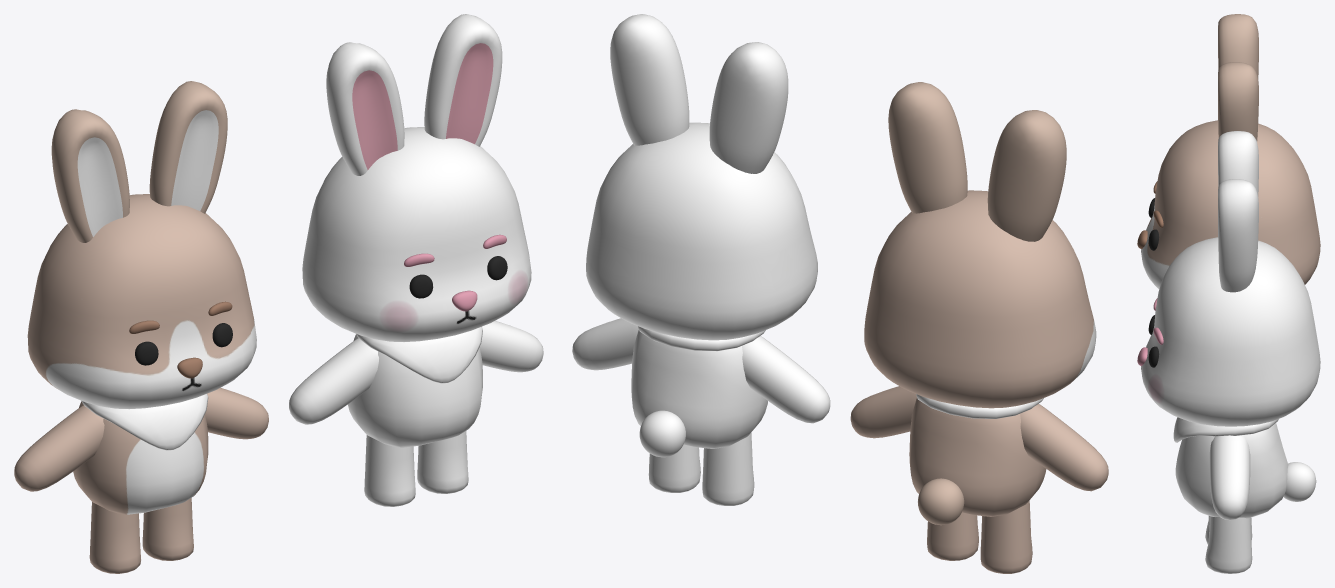
File: bunny_gltf.gltf
3 renders of one model, left to right at view 1: azimuth 30°, elevation 25°; view 2: azimuth 150°, elevation 25°; view 3: azimuth 270°, elevation 25°, orthographic. The views are drawn at different scales.
Visible parts, largest first — view 1: bunny2_head, bunny1_head, bunny2_ears, bunny1_ears, bunny1_body, bunny2_body, bunny1_arms, bunny2_arms, bunny1_legs, bunny2_legs, bunny1_scraf, bunny2_scraf (+2 smaller); view 2: bunny1_head, bunny2_head, bunny1_ears, bunny2_ears, bunny1_body, bunny2_body, bunny2_arms, bunny1_arms, bunny1_legs, bunny2_legs, bunny2_tail, bunny1_tail (+2 smaller); view 3: bunny2_head, bunny1_head, bunny2_ears, bunny2_body, bunny1_ears, bunny2_arms, bunny2_legs, bunny2_scraf, bunny2_tail, bunny1_eyes, bunny2_eyes.
Part boxes in pixels (x1,y1,x2,y2): bunny2_head: (302, 127, 531, 341); bunny1_head: (27, 194, 256, 409); bunny2_ears: (326, 14, 502, 175); bunny1_ears: (51, 81, 227, 242); bunny1_body: (73, 401, 208, 514); bunny2_body: (348, 334, 482, 447); bunny1_arms: (14, 388, 268, 491); bunny2_arms: (289, 321, 543, 424); bunny1_legs: (89, 498, 193, 573); bunny2_legs: (364, 431, 468, 506); bunny1_scraf: (81, 394, 208, 450); bunny2_scraf: (356, 326, 482, 383); bunny1_head: (864, 190, 1096, 408); bunny2_head: (586, 122, 817, 340); bunny1_ears: (888, 82, 1066, 241); bunny2_ears: (610, 14, 788, 173); bunny1_body: (909, 398, 1046, 516); bunny2_body: (631, 330, 767, 448); bunny2_arms: (572, 318, 830, 423); bunny1_arms: (850, 386, 1108, 491); bunny1_legs: (927, 500, 1032, 573); bunny2_legs: (648, 433, 754, 505); bunny2_tail: (639, 410, 685, 457); bunny1_tail: (918, 478, 964, 525); bunny2_head: (1141, 237, 1320, 426); bunny1_head: (1141, 120, 1320, 289); bunny2_ears: (1218, 131, 1258, 292); bunny2_body: (1175, 423, 1288, 518); bunny1_ears: (1218, 14, 1258, 140); bunny2_arms: (1209, 435, 1250, 520); bunny2_legs: (1205, 516, 1252, 573); bunny2_scraf: (1173, 417, 1278, 442); bunny2_tail: (1283, 462, 1316, 501); bunny1_eyes: (1148, 198, 1159, 250); bunny2_eyes: (1148, 315, 1159, 367).
Size of the model in its own units: 9.55 by 7.96 by 3.31.
Materials: 22 (8 with a texture image).
